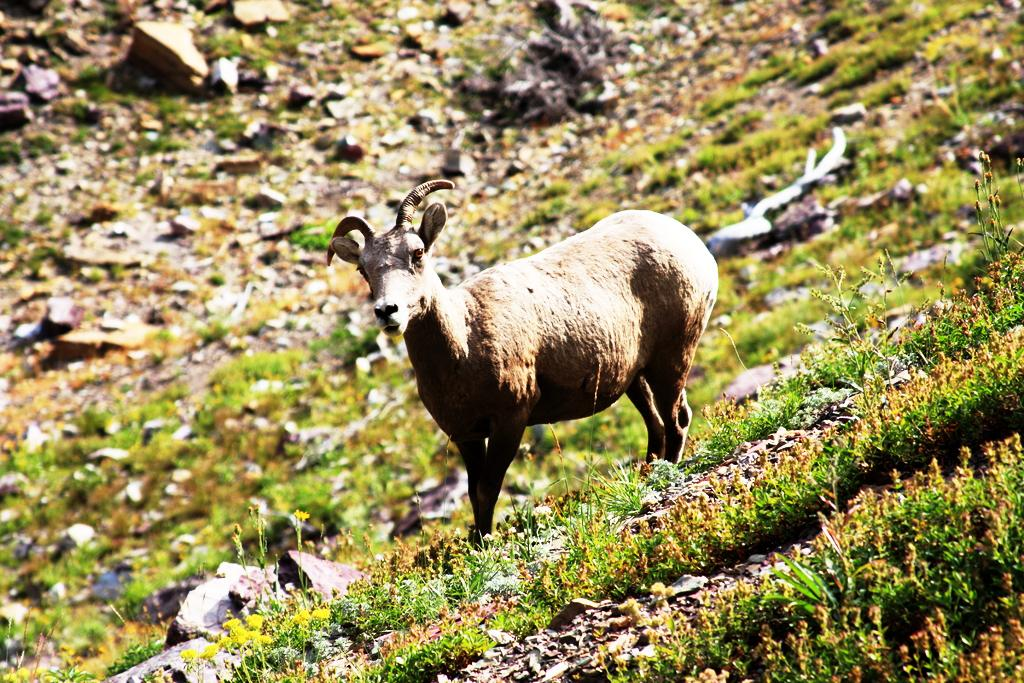Sheep: (323, 174, 716, 549)
